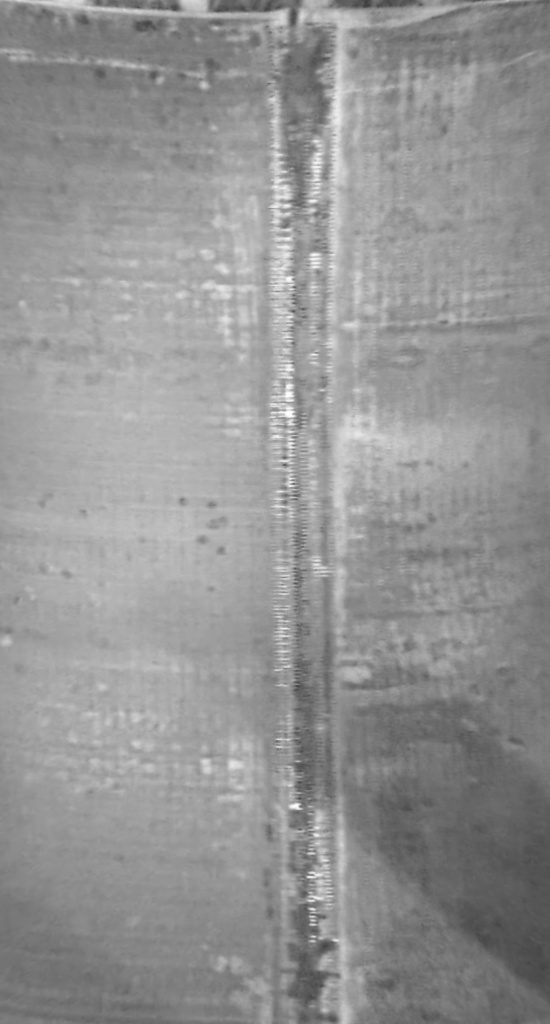splice: (251, 1, 348, 1022)
